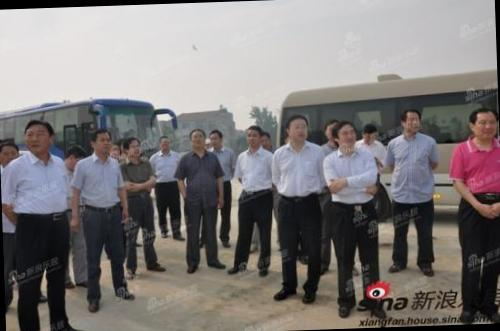no_helmet: (22, 117, 56, 155), (466, 103, 498, 142), (283, 112, 311, 146), (331, 120, 358, 152), (89, 125, 114, 158), (397, 107, 424, 137), (62, 142, 89, 170), (0, 140, 21, 171), (186, 127, 210, 154), (122, 132, 143, 162), (242, 123, 262, 150), (322, 116, 340, 144), (360, 122, 380, 146), (206, 127, 226, 150), (154, 132, 173, 154), (258, 129, 276, 151)
